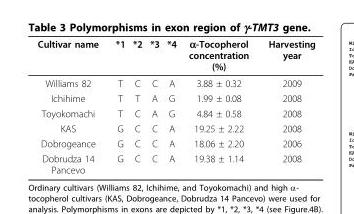table: (36, 36, 314, 175)
table column: (181, 36, 258, 175), (36, 36, 106, 175), (258, 36, 314, 175), (106, 36, 128, 175), (162, 36, 181, 175), (128, 36, 145, 175), (145, 36, 162, 175)
table column header: (36, 36, 314, 74)
table row: (36, 36, 314, 74), (36, 150, 314, 175), (36, 74, 314, 90), (36, 90, 314, 105), (36, 105, 314, 120), (36, 120, 314, 135), (36, 135, 314, 150)
